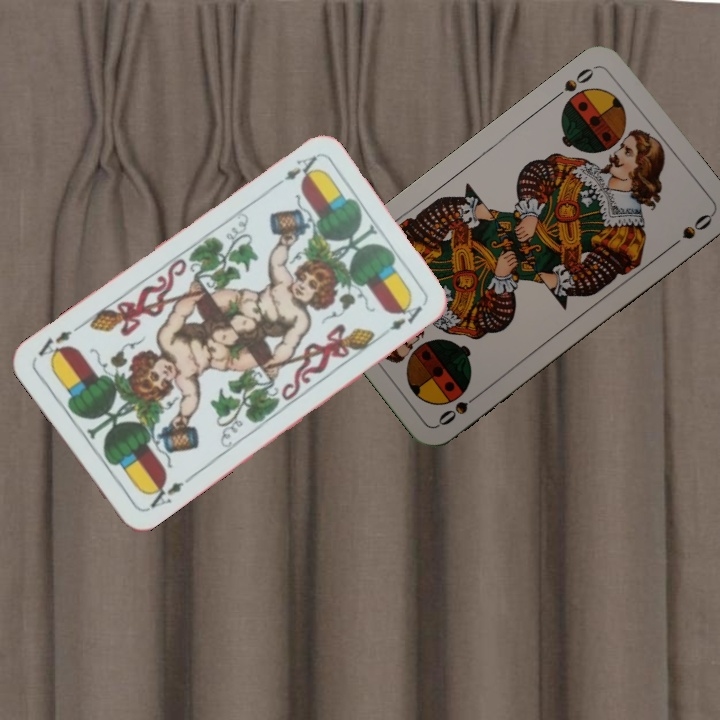EA: (268, 152, 321, 192), (142, 473, 193, 514)
SO: (433, 388, 485, 429), (549, 61, 600, 102)
